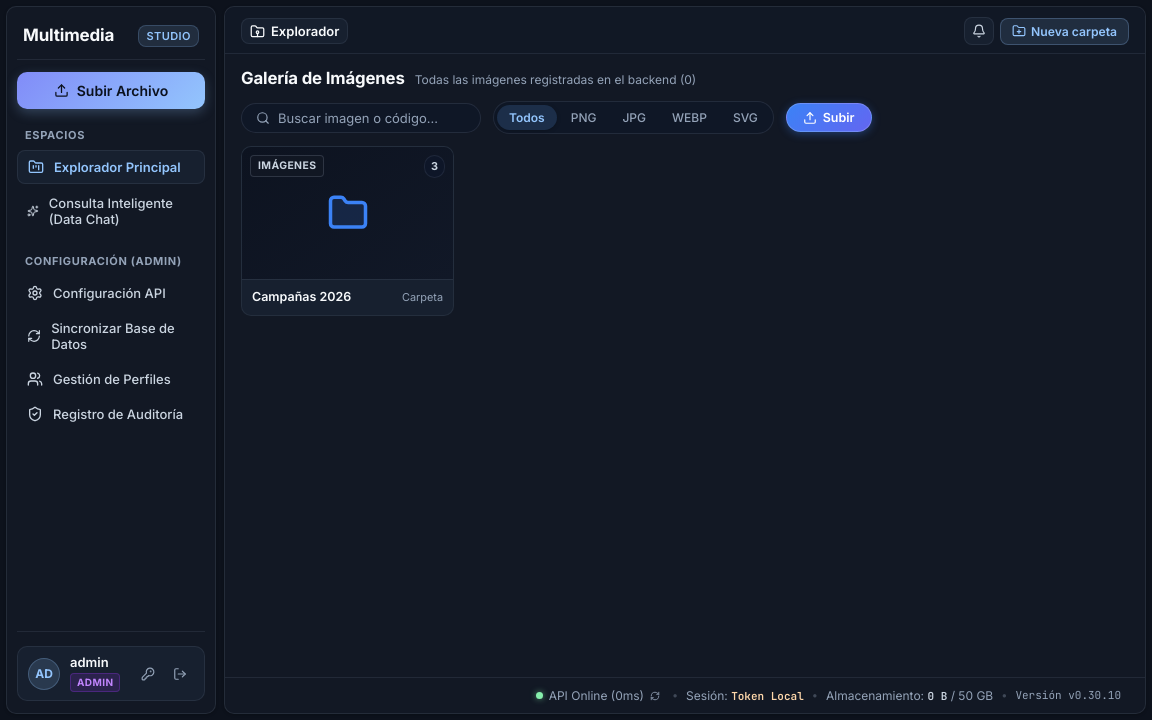
App — Integración global Módulo 18 (carpetas activas & chat RAG) › navigates to Data Chat and asks a question scoped to a table folder
The width and height of the screenshot is (1152, 720).
Click the button "Consulta Inteligente (Data Chat)". click: (111, 211)
box: [17,187,205,235]
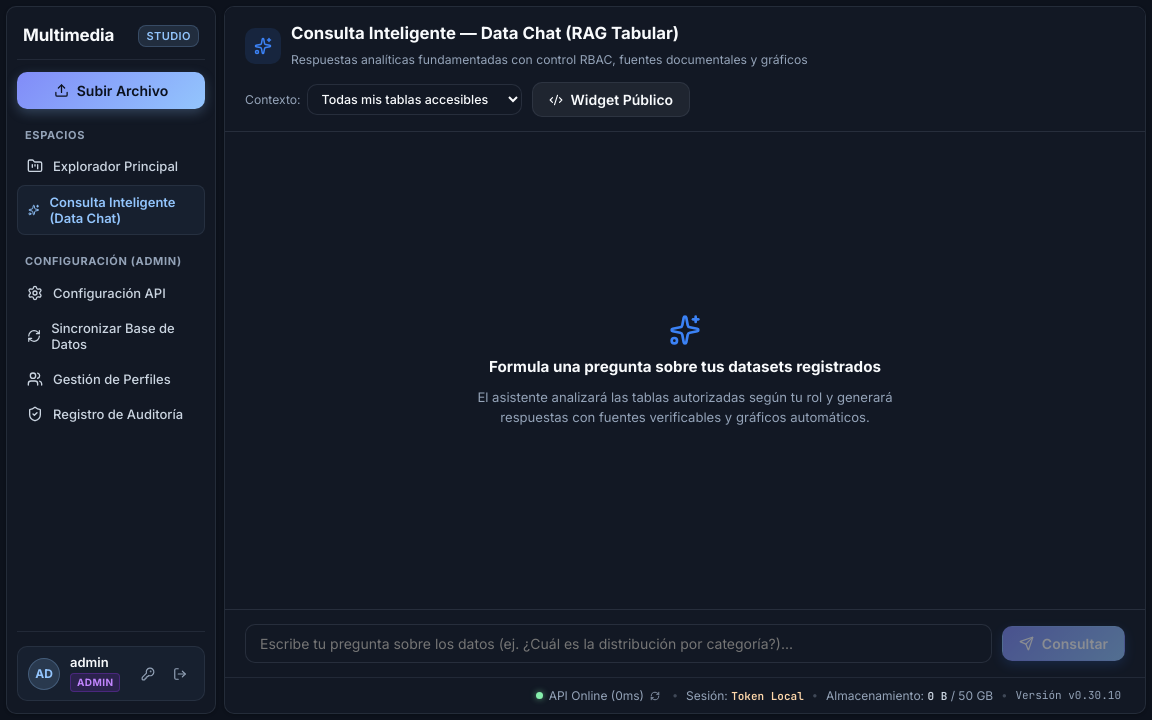
Now the heading "Consulta Inteligente — Data Chat (RAG Tabular)" is shown, box [291,23,679,43]
Select "Filtrar por carpeta específica" in the dropdown named "Contexto de consulta". click: (414, 100)
box: [306,84,522,115]
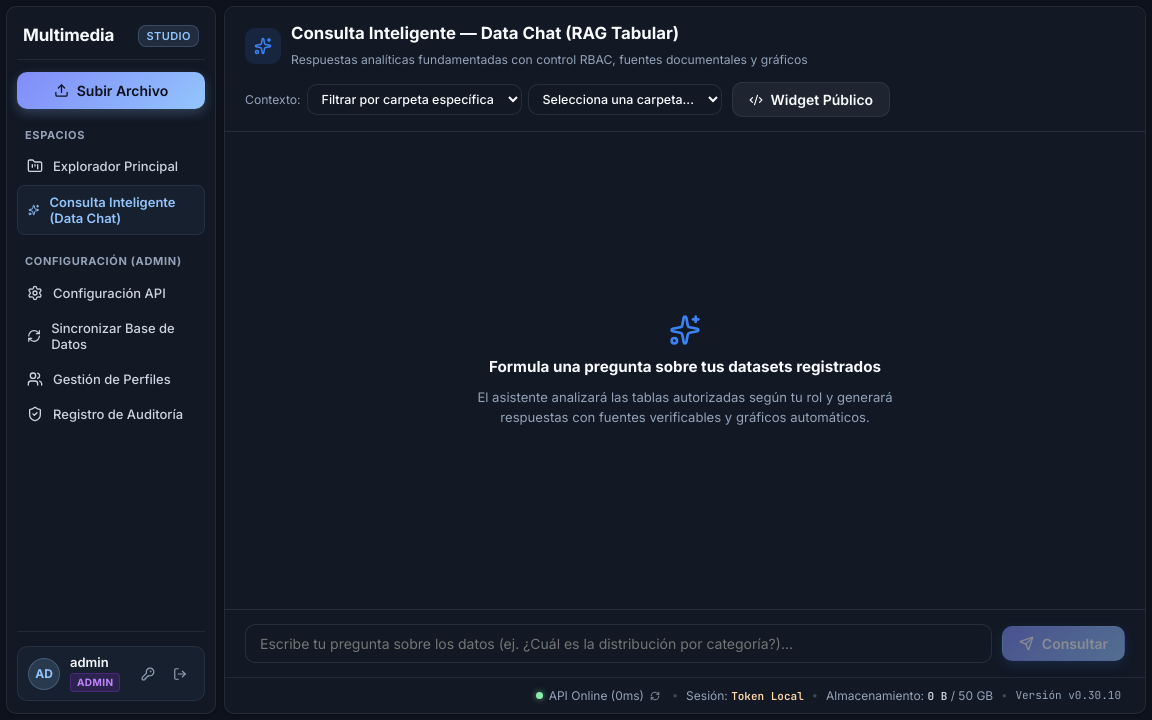
Select "Estadísticas Regionales" in the dropdown named "Seleccionar carpeta para consulta". click: (624, 100)
box: [528,84,722,115]
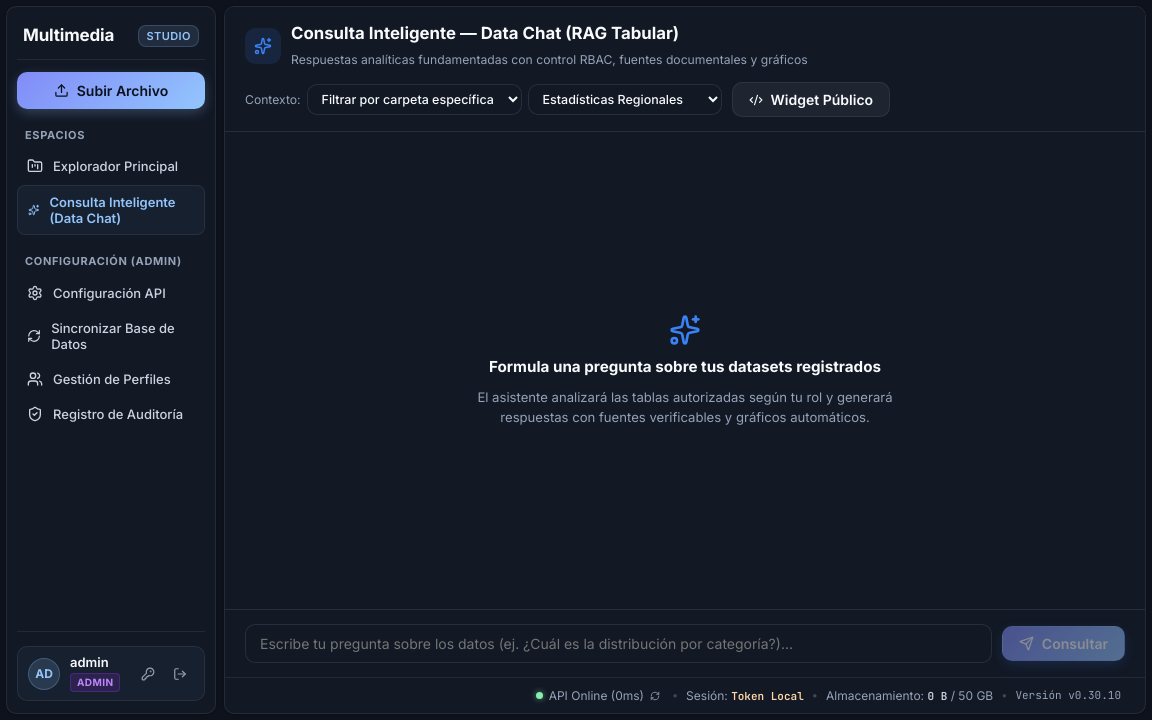
Replace the text in the field named "Pregunta analítica" with "¿Cuántos habitantes hay en el Norte?". click: (618, 644)
box: [245,624,992,663]
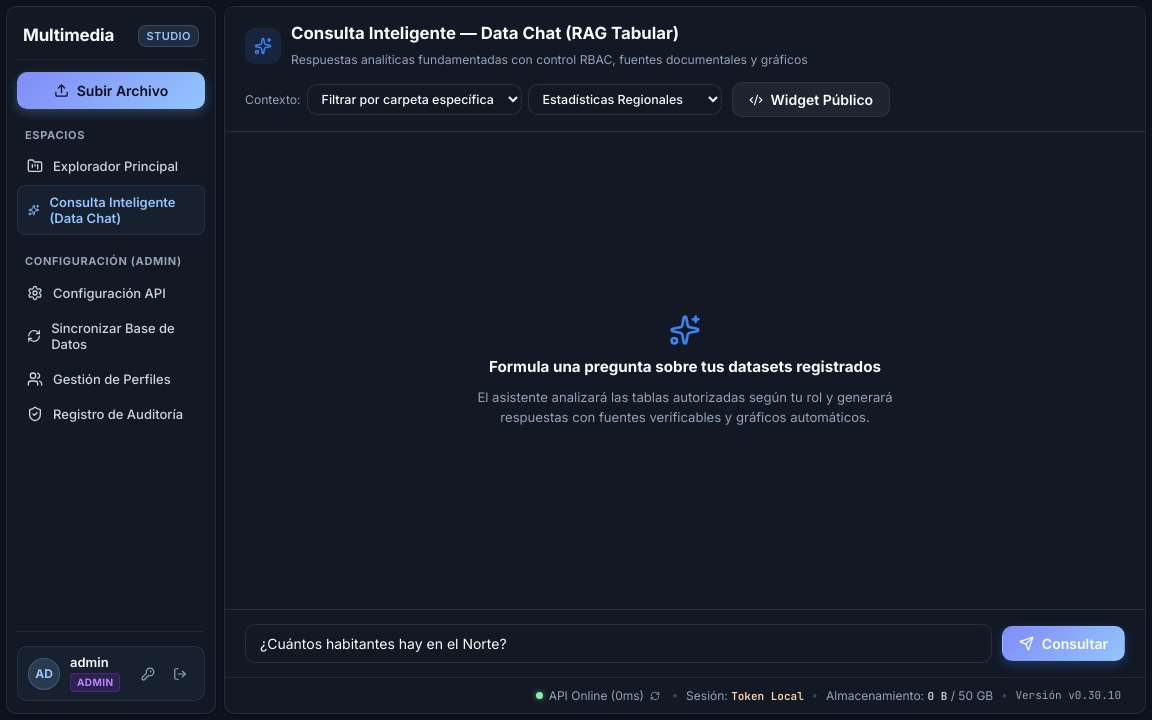
Click the button "Consultar". click: (1063, 644)
box: [1002,626,1125,661]
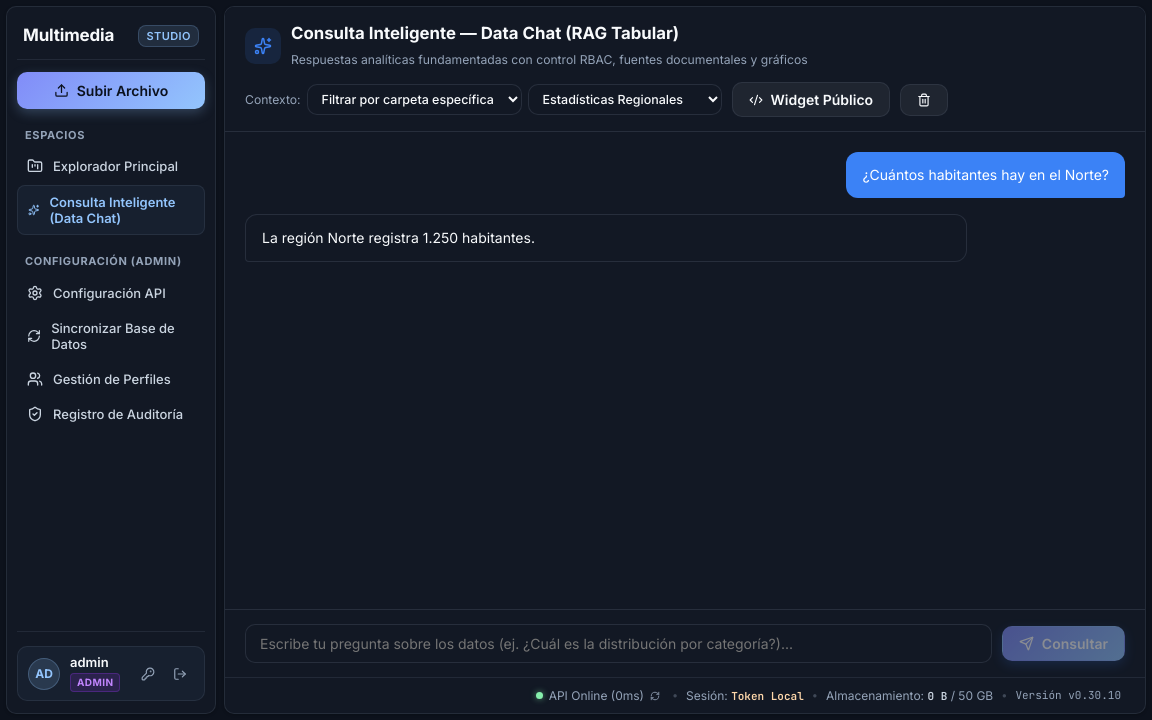
Now the text "La región Norte registra 1.250 habitantes." is shown, box [262,229,535,246]
